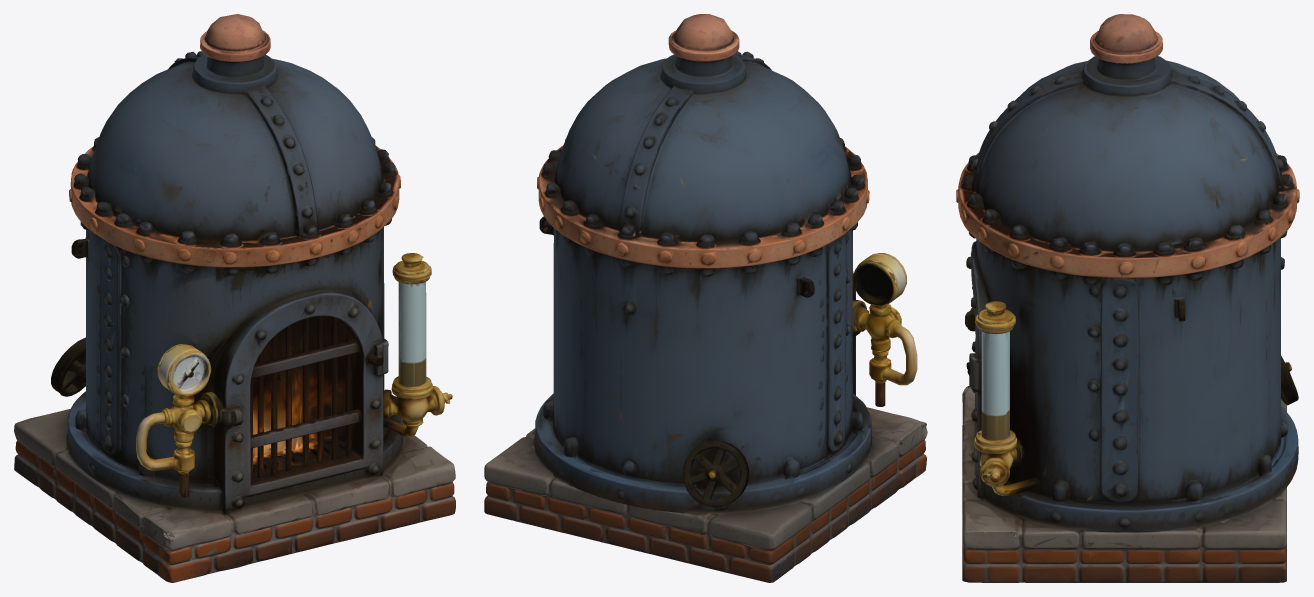
Rendered from lhi_boiler.glb.
3 renders of one model, left to right at view 1: azimuth 30°, elevation 25°; view 2: azimuth 150°, elevation 25°; view 3: azimuth 270°, elevation 25°, orthographic. The views are drawn at different scales.
Parts seen in each view (by area): view 1: material; view 2: material; view 3: material.
Part boxes in pixels (bbox=[...]): material: bbox=[14, 14, 455, 582]; material: bbox=[484, 14, 927, 582]; material: bbox=[956, 14, 1299, 582].
Bounding box in the file's own units: 0.6189 × 0.9099 × 0.5733.
Materials: 1 (1 with a texture image).
